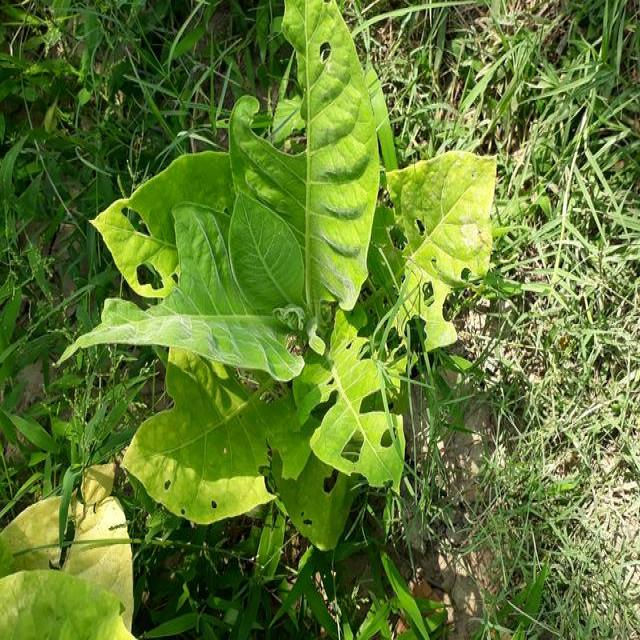crop: (82, 0, 488, 535), (0, 463, 133, 640)
